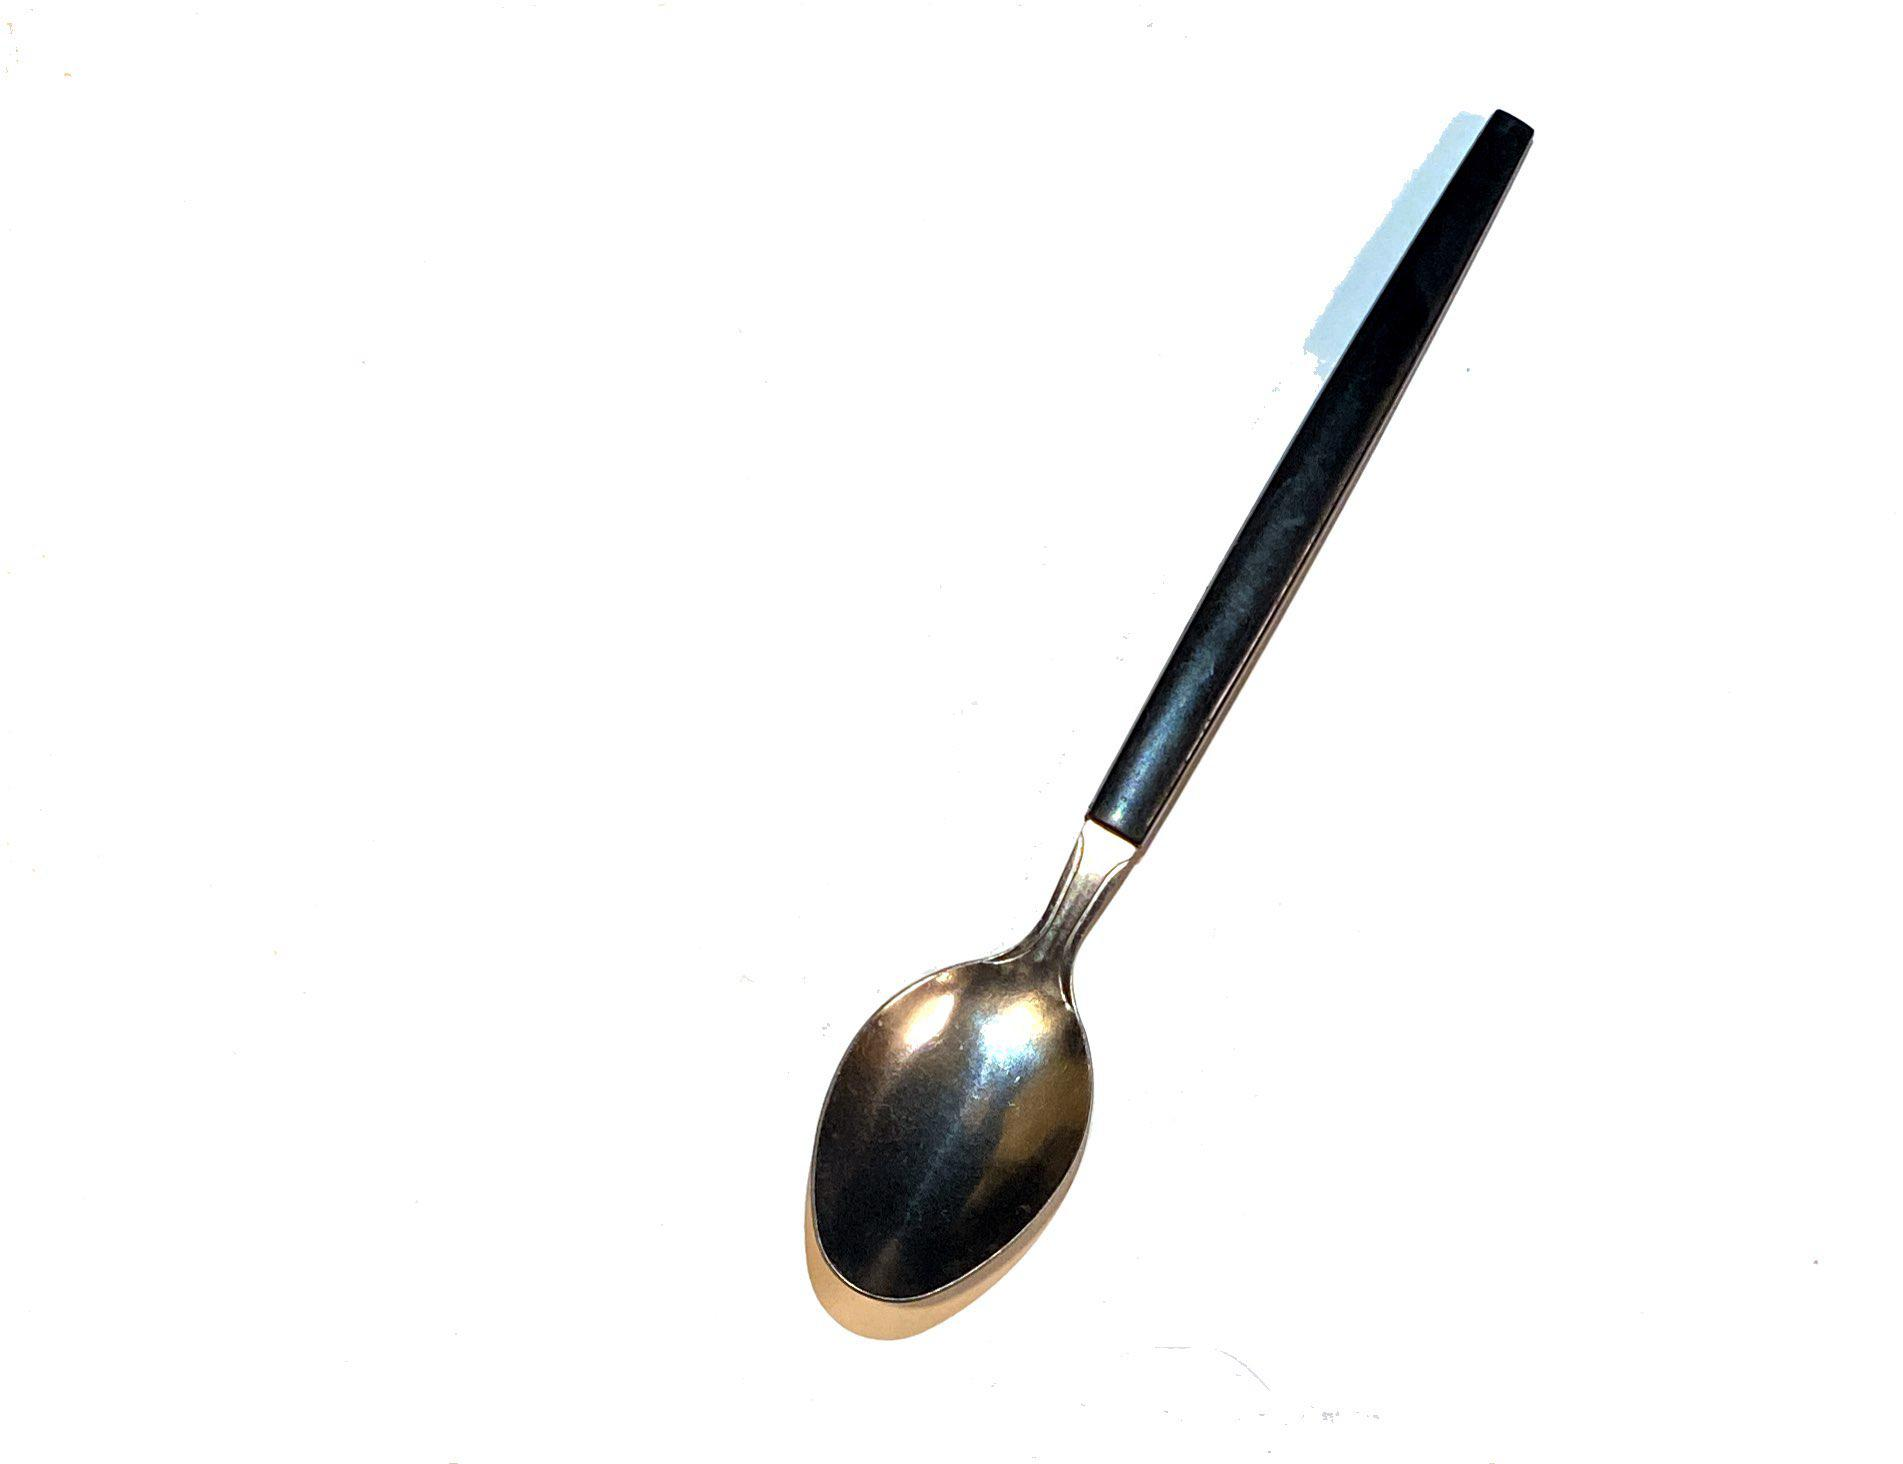Spoon: (692, 91, 1646, 1359)
